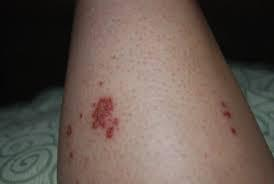Bed Bugs: (88, 94, 122, 139), (217, 100, 233, 121), (228, 125, 243, 138), (65, 119, 74, 137), (97, 80, 109, 86), (112, 55, 118, 61), (69, 151, 73, 160), (79, 113, 82, 118)
